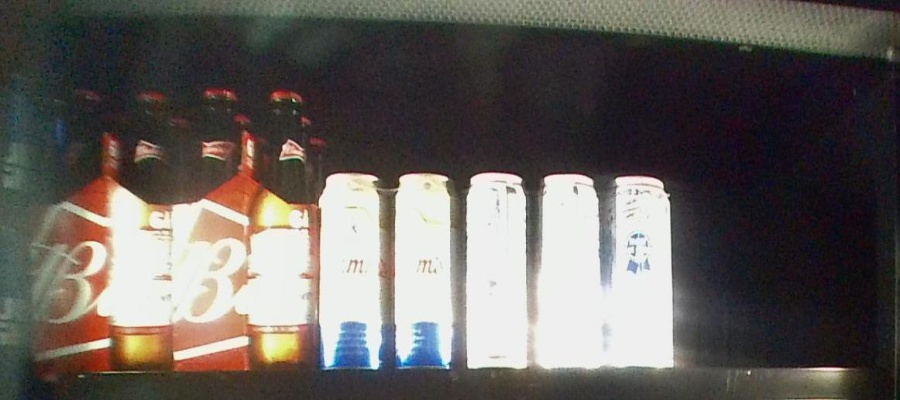bottle: (170, 89, 318, 371), (462, 174, 673, 369), (36, 91, 168, 370), (321, 164, 461, 371)
